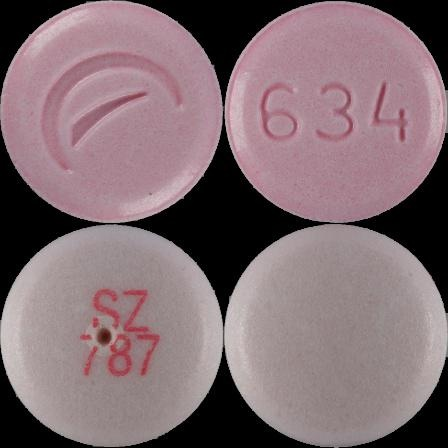68084-559: (0, 0, 224, 224)
